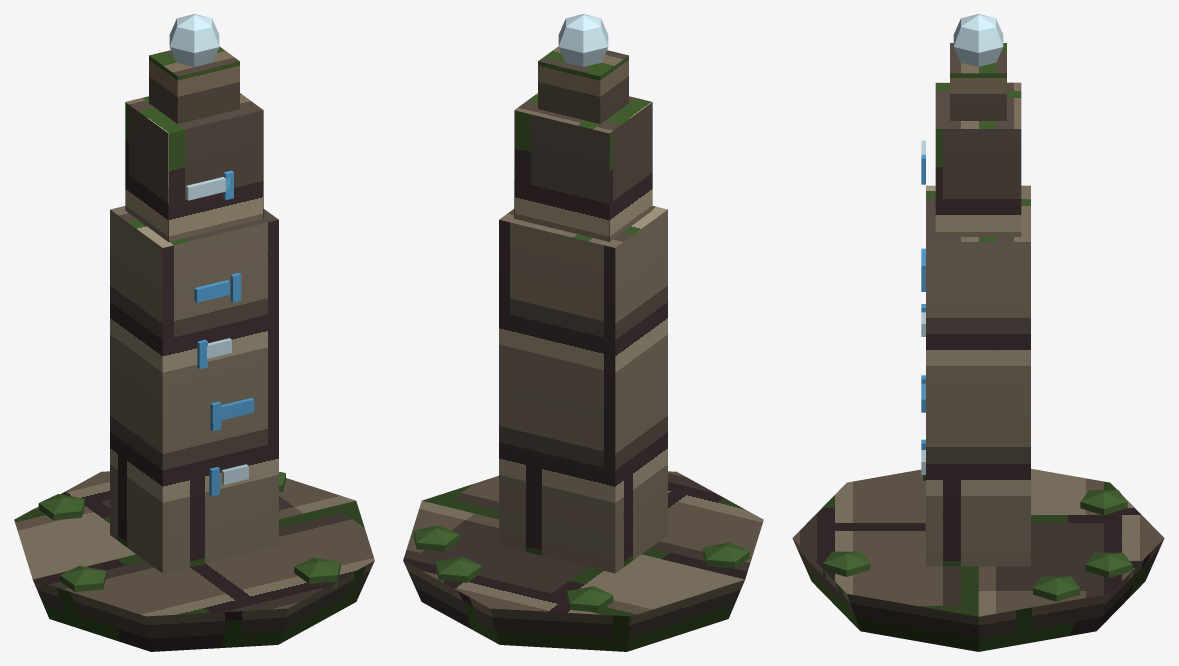
Rendered from waystone.glb.
3 views of the same model, side by side, from view 1: azimuth 30°, elevation 25°; view 2: azimuth 150°, elevation 25°; view 3: azimuth 270°, elevation 25° (orthographic).
Parts seen in each view (by area): view 1: waystone; view 2: waystone; view 3: waystone.
Boxes of the visible parts, box(x1,y1,x2,y2) form: waystone: box(14, 14, 374, 651); waystone: box(403, 14, 763, 651); waystone: box(792, 14, 1164, 651).
Bounding box in the file's own units: 1.56 × 2.62 × 1.56.
3 materials, 1 textured.
